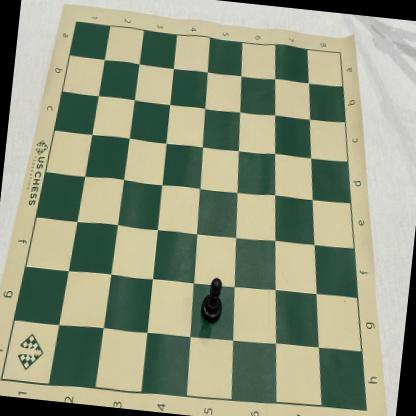pawn: (199, 276, 226, 324)
